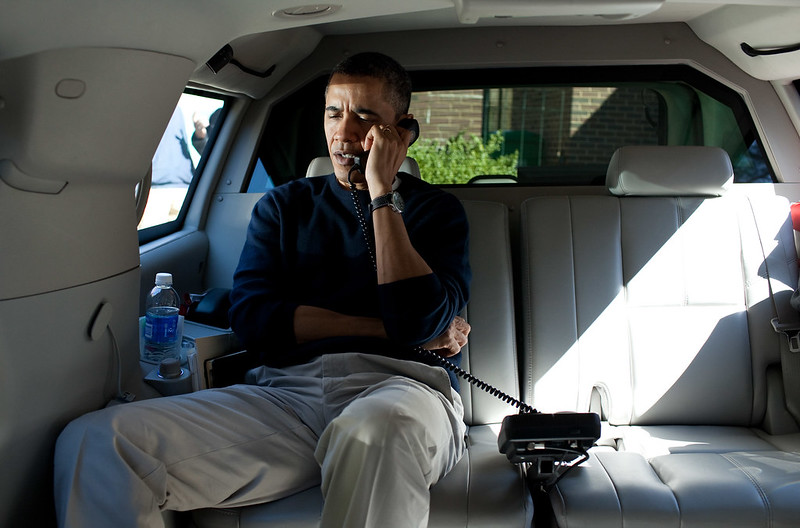phone: (366, 114, 425, 177)
talk: (323, 95, 427, 193)
